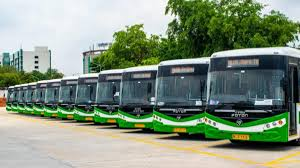bus: (208, 52, 300, 148), (153, 54, 212, 139), (116, 61, 159, 131), (95, 66, 122, 127), (72, 72, 98, 124), (55, 76, 78, 120), (43, 75, 61, 120), (33, 77, 49, 116), (24, 78, 38, 117), (16, 81, 30, 115), (11, 82, 22, 114)
